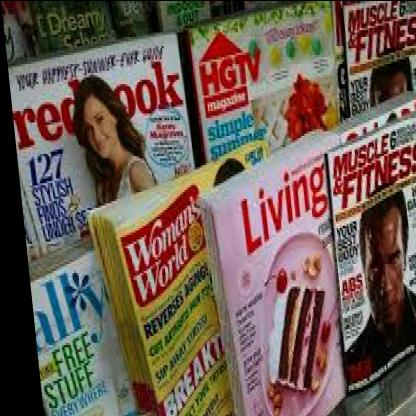Paper: (1, 6, 416, 416)
